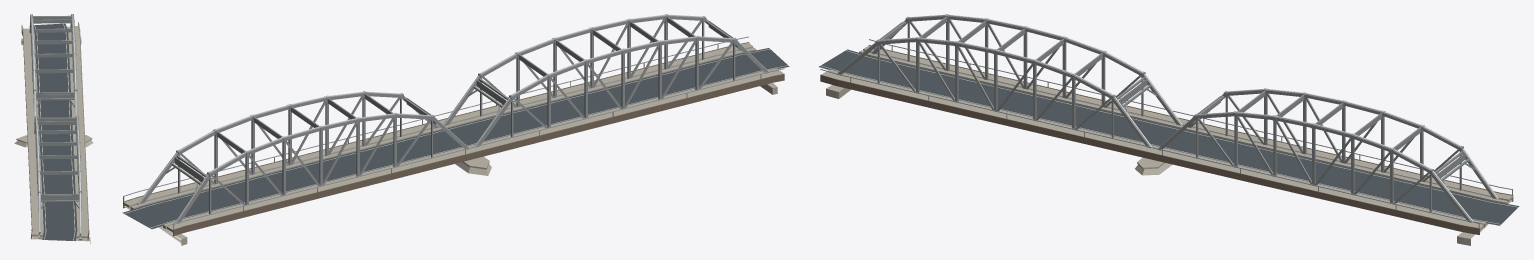
Rendered from reconciliation-bridge-far.glb.
3 views of the same model, side by side, from view 1: azimuth 30°, elevation 25°; view 2: azimuth 150°, elevation 25°; view 3: azimuth 270°, elevation 25° (orthographic). The views are drawn at different scales.
Parts seen in each view (by area): view 1: reconciliation-bridge-0-asphalt, reconciliation-bridge-0-steel, reconciliation-bridge-0-concrete, reconciliation-bridge-0-light, reconciliation-bridge-0-rail, reconciliation-bridge-0-deck, reconciliation-bridge-0-paint; view 2: reconciliation-bridge-0-steel, reconciliation-bridge-0-asphalt, reconciliation-bridge-0-concrete, reconciliation-bridge-0-deck, reconciliation-bridge-0-light, reconciliation-bridge-0-rail, reconciliation-bridge-0-paint; view 3: reconciliation-bridge-0-steel, reconciliation-bridge-0-asphalt, reconciliation-bridge-0-concrete, reconciliation-bridge-0-deck, reconciliation-bridge-0-light, reconciliation-bridge-0-rail, reconciliation-bridge-0-paint.
Boxes of the visible parts, x1,y1,x2,y2 form: reconciliation-bridge-0-asphalt: (33,23,77,241); reconciliation-bridge-0-steel: (29,14,82,240); reconciliation-bridge-0-concrete: (14,26,93,243); reconciliation-bridge-0-light: (31,14,81,233); reconciliation-bridge-0-rail: (21,22,89,232); reconciliation-bridge-0-deck: (21,26,89,240); reconciliation-bridge-0-paint: (34,24,75,240); reconciliation-bridge-0-steel: (137,14,769,223); reconciliation-bridge-0-asphalt: (122,48,789,229); reconciliation-bridge-0-concrete: (123,43,783,245); reconciliation-bridge-0-deck: (123,42,784,236); reconciliation-bridge-0-light: (139,14,768,223); reconciliation-bridge-0-rail: (123,36,784,229); reconciliation-bridge-0-paint: (124,49,787,228); reconciliation-bridge-0-steel: (837,14,1499,222); reconciliation-bridge-0-asphalt: (819,49,1519,225); reconciliation-bridge-0-concrete: (821,45,1512,245); reconciliation-bridge-0-deck: (820,45,1513,234); reconciliation-bridge-0-light: (837,14,1497,222); reconciliation-bridge-0-rail: (820,39,1513,228); reconciliation-bridge-0-paint: (820,50,1517,224).
Bounding box in the file's own units: 70.4 × 14.11 × 113.
